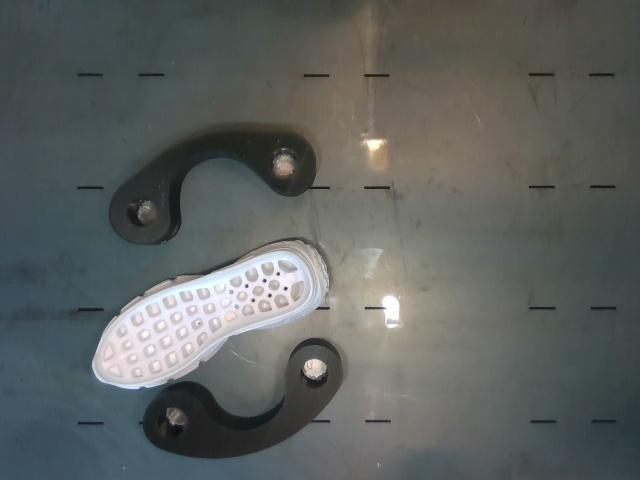shoes: (92, 251, 313, 385)
